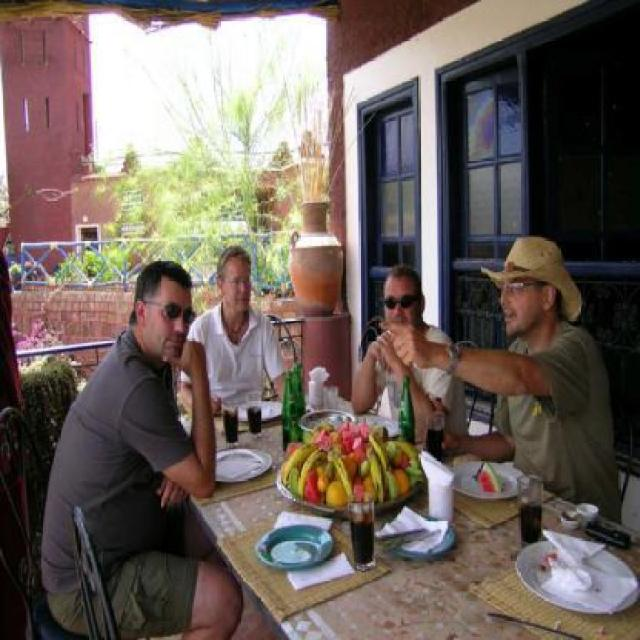Person: (39, 259, 242, 639), (378, 233, 624, 522), (348, 267, 470, 448), (178, 240, 290, 418)
